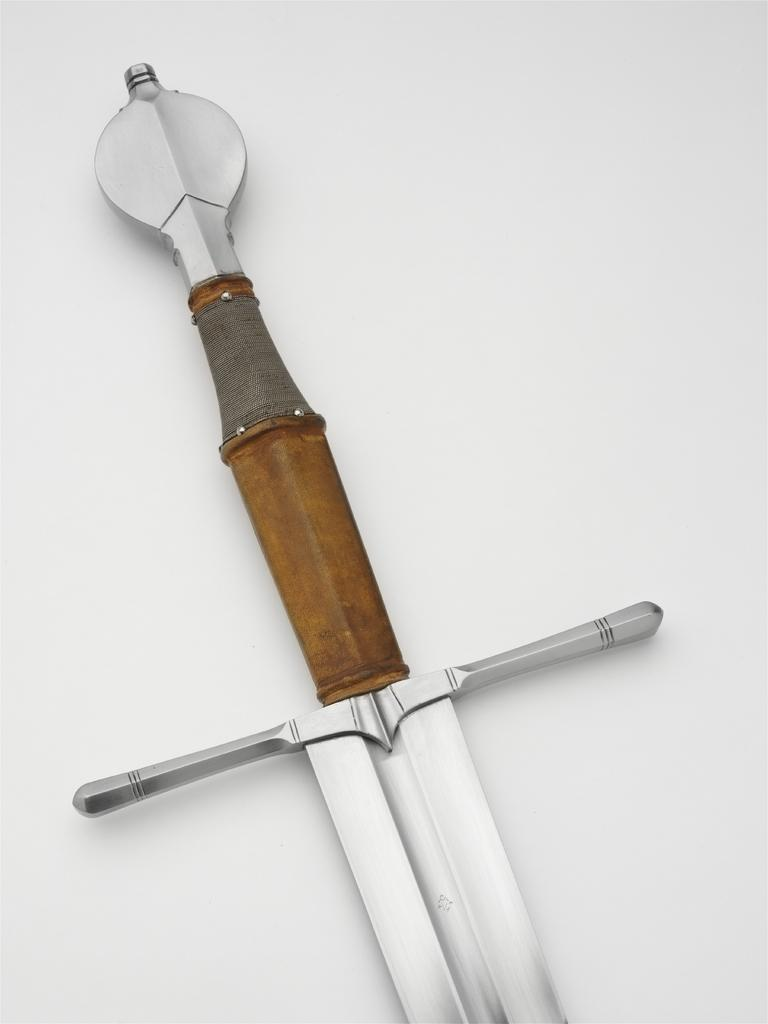Sword: (70, 61, 662, 1023)
